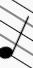note: (1, 1, 30, 61)
